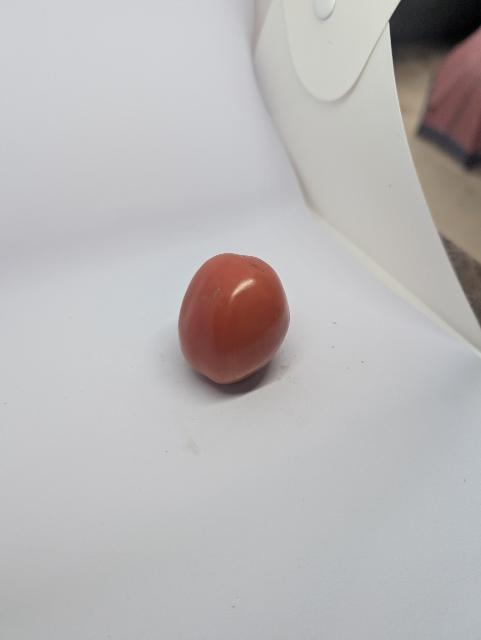red: (173, 242, 294, 393)
